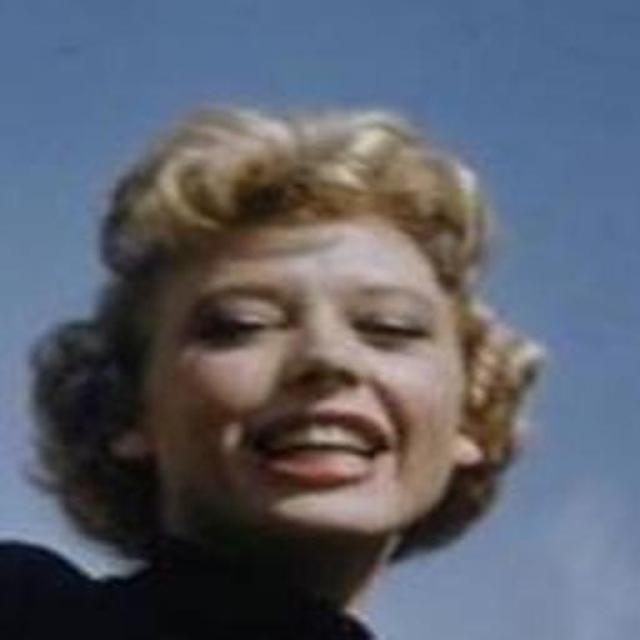bareface: (115, 138, 458, 524)
